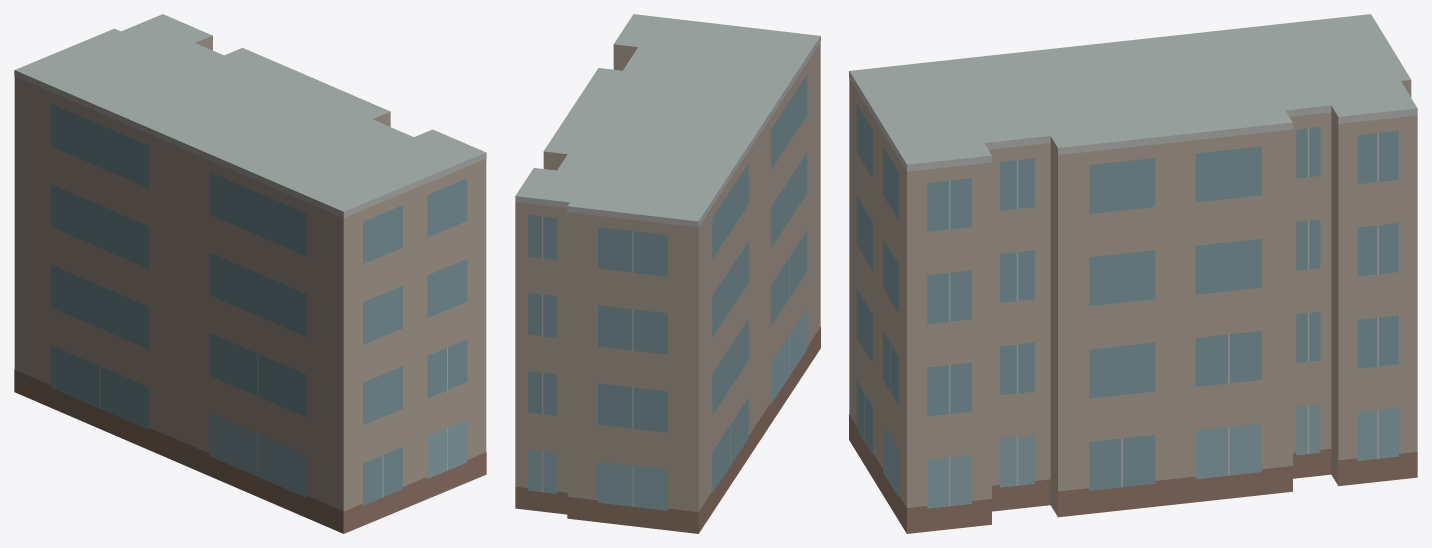
The model's file is survey-upis-32947102.glb.
The picture shows the model from 3 angles, left to right: view 1: azimuth 30°, elevation 25°; view 2: azimuth 150°, elevation 25°; view 3: azimuth 270°, elevation 25°; orthographic projection. The views are drawn at different scales.
Visible parts, largest first — view 1: survey-upis-32947102.tmp; view 2: survey-upis-32947102.tmp; view 3: survey-upis-32947102.tmp.
Boxes of the visible parts, <box> form: survey-upis-32947102.tmp: <box>14,14,486,533</box>; survey-upis-32947102.tmp: <box>515,14,820,533</box>; survey-upis-32947102.tmp: <box>849,14,1417,533</box>.
Size of the model in its own units: 11.22 by 12.8 by 17.87.
